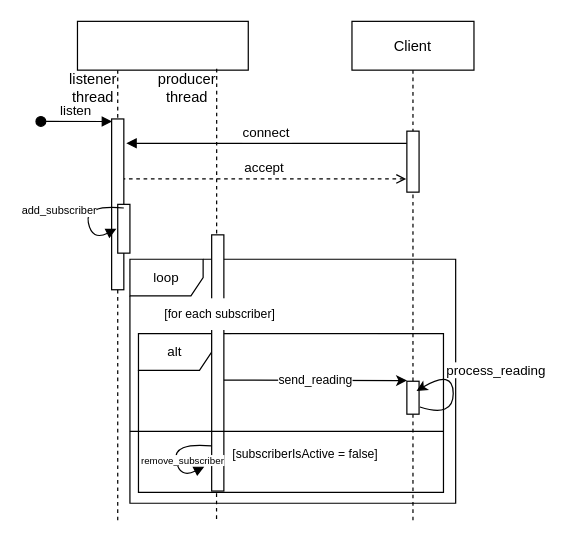
The diagram is 566 pixels wide and 544 high, and some of its shapes have lost their labels. Here are the shapes that lost their labels. From the top down, the box of each, then its label:
(76, 20, 248, 70): Sensor
(231, 334, 377, 371): [subscriberIsActive = true]
